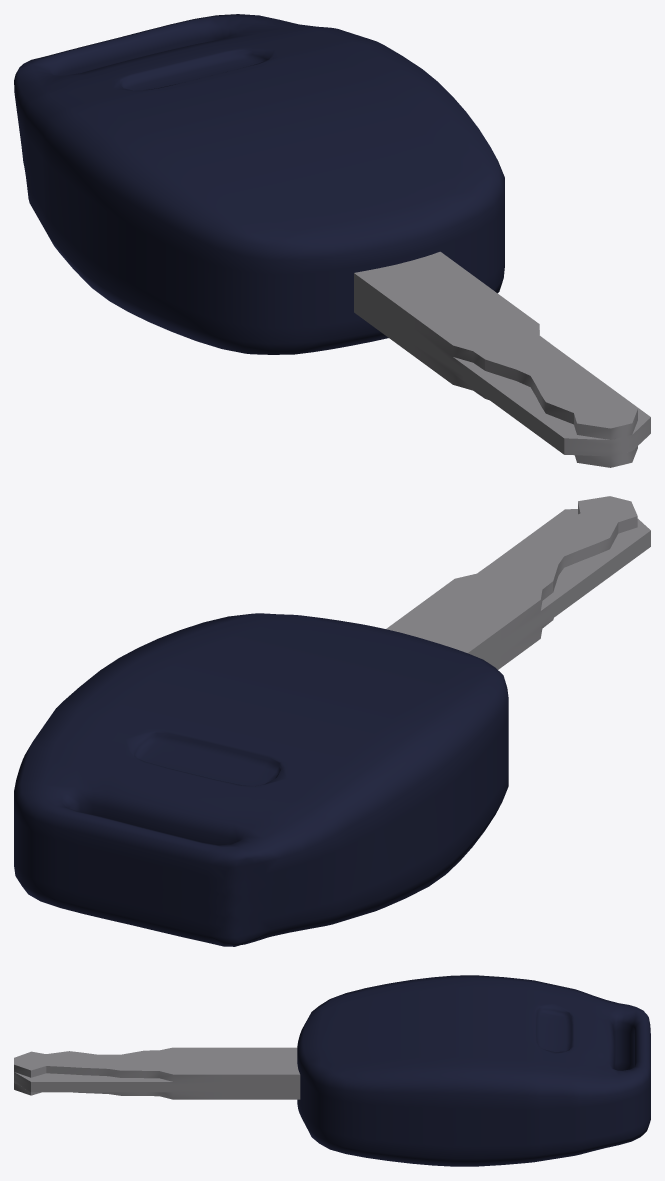
The model's file is car_keys.glb.
3 views of the same model, one above another, from view 1: azimuth 30°, elevation 25°; view 2: azimuth 150°, elevation 25°; view 3: azimuth 270°, elevation 25° (orthographic). The views are drawn at different scales.
Visible parts, largest first — view 1: pCube1, pCube2; view 2: pCube1, pCube2; view 3: pCube1, pCube2.
Part boxes in pixels (x1,y1,x2,y2): pCube1: (14,14,504,354); pCube2: (354,251,650,467); pCube1: (14,613,508,946); pCube2: (386,496,650,669); pCube1: (297,975,650,1166); pCube2: (14,1047,300,1099).
Size of the model in its own units: 6.64 by 2.74 by 16.46.
